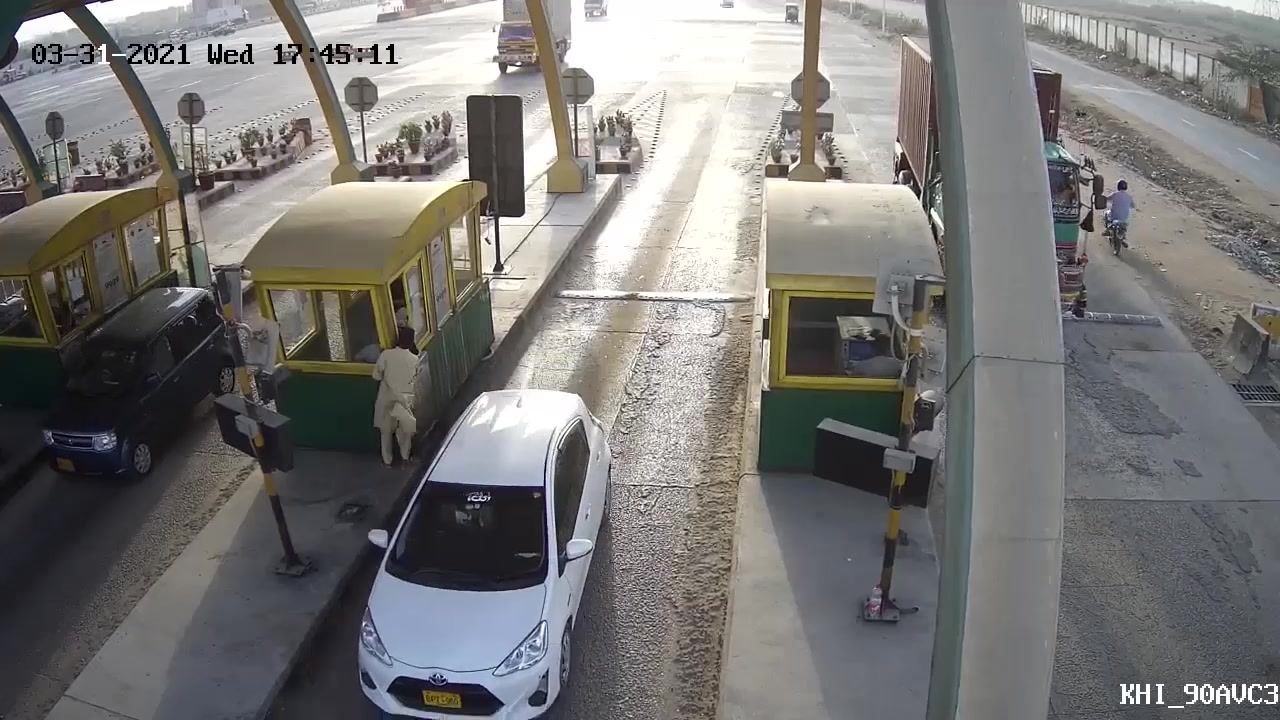F1: (346, 390, 631, 713)
